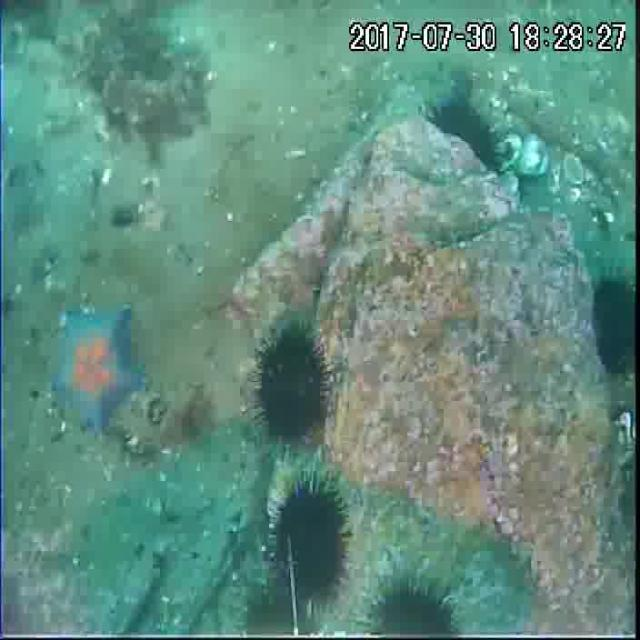echinus: (269, 472, 351, 599), (257, 323, 332, 441), (431, 95, 504, 179), (366, 578, 458, 640), (592, 274, 640, 386), (244, 582, 319, 640)
starfish: (46, 303, 148, 440)
